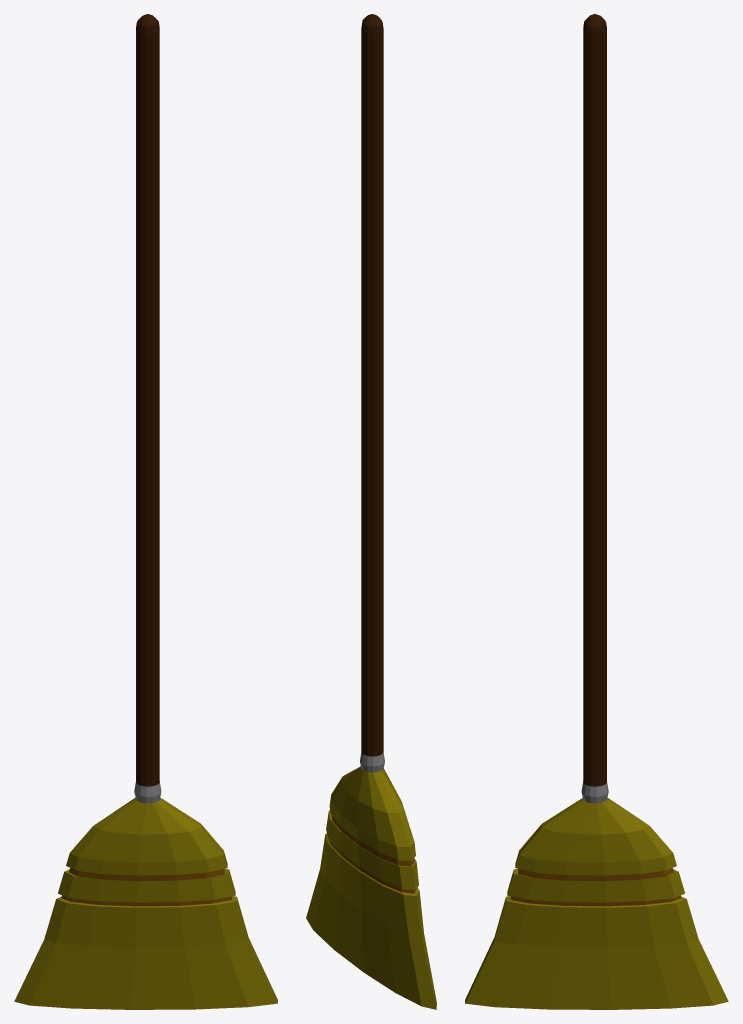
File: broom2.glb
3 views of the same model, side by side, from view 1: azimuth 90°, elevation 25°; view 2: azimuth 210°, elevation 25°; view 3: azimuth 270°, elevation 25° (orthographic). The views are drawn at different scales.
Visible parts, largest first — view 1: Cylinder; view 2: Cylinder; view 3: Cylinder.
Part boxes in pixels (box(x1,y1,x2,y2)): Cylinder: box(14, 14, 277, 1009); Cylinder: box(306, 14, 436, 1009); Cylinder: box(465, 14, 728, 1009).
Bounding box in the file's own units: 0.1585 × 3.74 × 0.9056.
